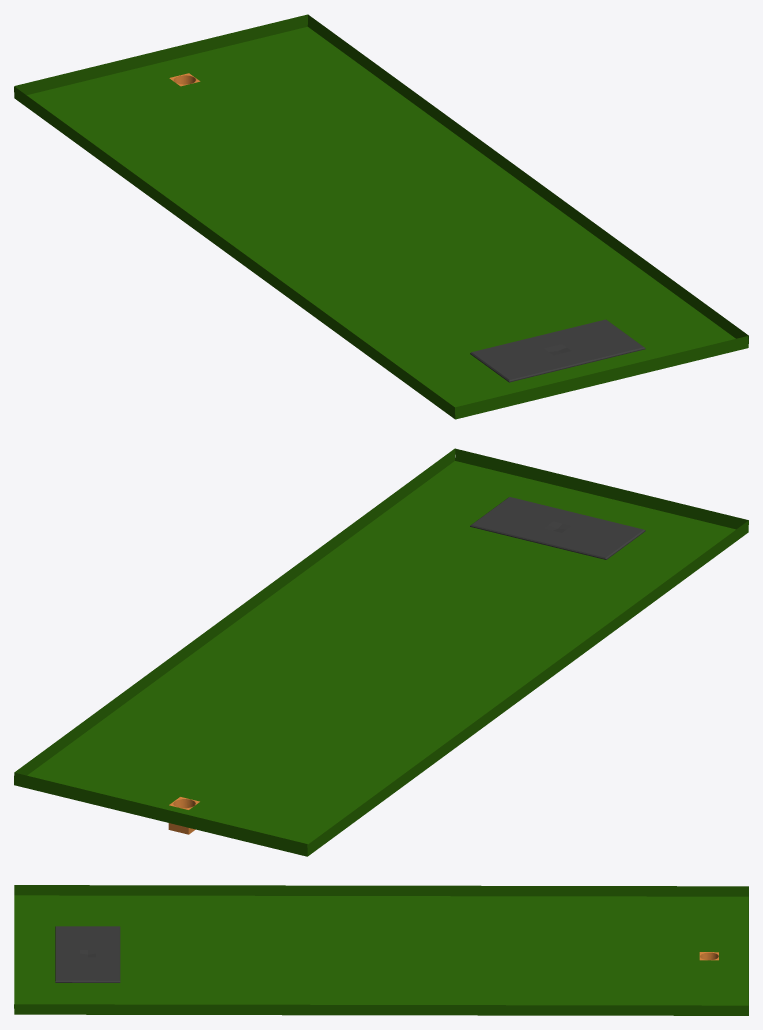
File: basic_level_1.glb
3 views of the same model, one above another, from view 1: azimuth 30°, elevation 25°; view 2: azimuth 150°, elevation 25°; view 3: azimuth 270°, elevation 25° (orthographic). The views are drawn at different scales.
Parts seen in each view (by area): view 1: Plane, start; view 2: Plane, start; view 3: Plane, start.
Boxes of the visible parts, x1,y1,x2,y2 form: Plane: [14, 14, 748, 419]; start: [470, 319, 645, 382]; Plane: [14, 448, 748, 856]; start: [470, 497, 645, 559]; Plane: [14, 885, 748, 1015]; start: [55, 926, 120, 982].
Size of the model in its own units: 51.74 by 6.48 by 135.
